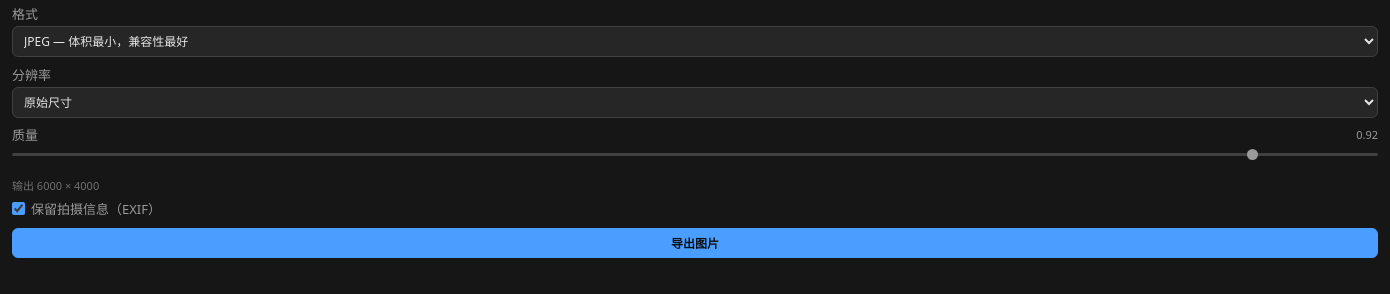
it: ExportPanel 的 EXIF 保留 › WebP 选中的时候就标注不带 EXIF
Select "WebP — 同画质下比 JPEG 更小" in the dropdown labelled "格式": (695, 42) [12,26,1378,57]
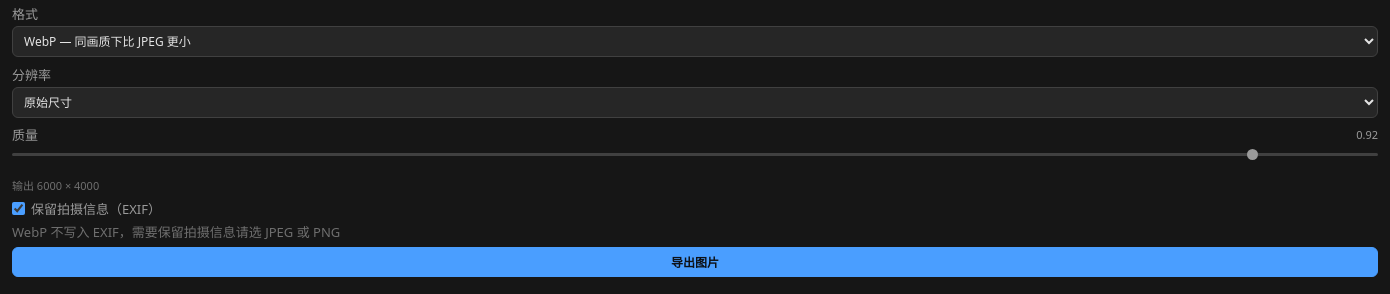
Expected: the text "WebP 不写入 EXIF，需要保留拍摄信息请选 JPEG 或 PNG" is shown, [12,223,340,241]
